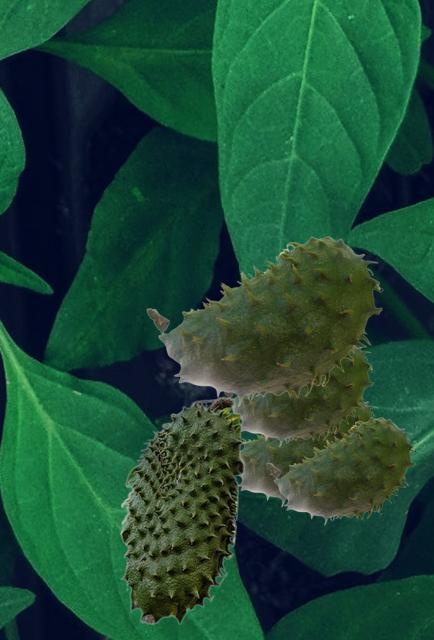guyabano: (146, 236, 382, 406), (119, 396, 245, 624), (266, 417, 415, 524), (223, 347, 373, 446), (240, 401, 378, 506)
